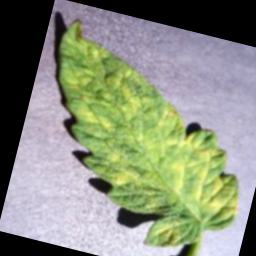Leaf_Mold: (19, 16, 256, 256)
